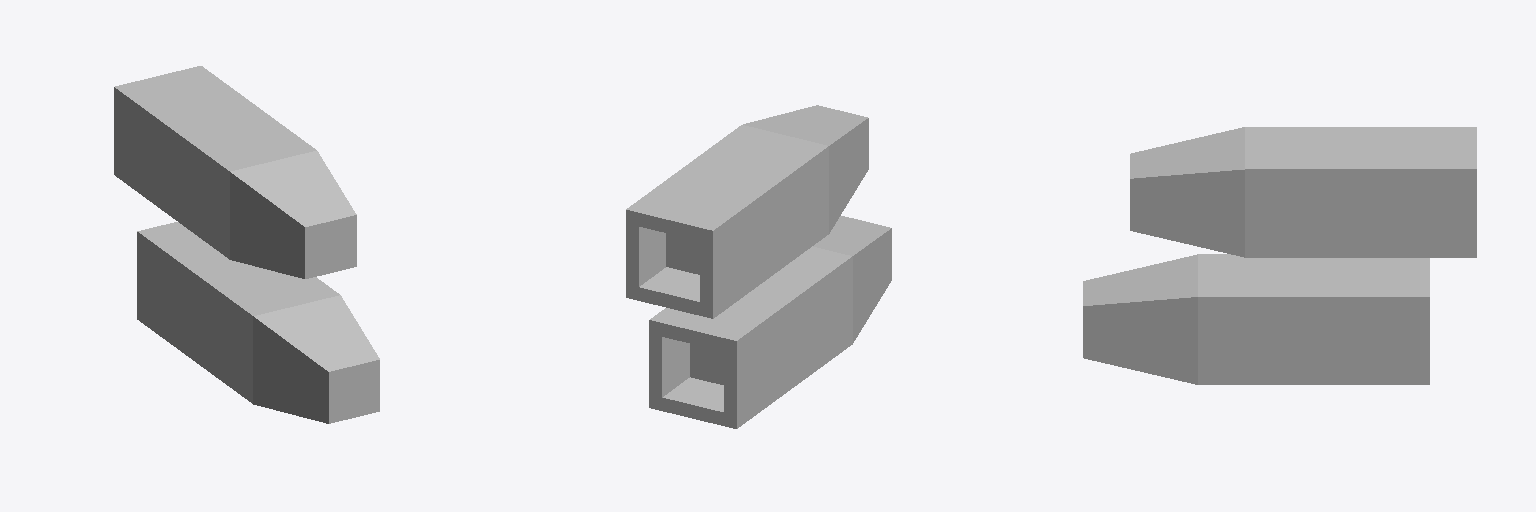
The model's file is Quad Cannons.obj.
The picture shows the model from 3 angles: view 1: azimuth 30°, elevation 25°; view 2: azimuth 150°, elevation 25°; view 3: azimuth 270°, elevation 25°; orthographic projection.
Parts seen in each view (by area): view 1: engine_plane_6, engine_plane_5; view 2: engine_plane_6, engine_plane_5; view 3: engine_plane_6, engine_plane_5.
Part boxes in pixels (left/top/right/bottom): engine_plane_6: left=114, top=66, right=356, bottom=278; engine_plane_5: left=137, top=222, right=379, bottom=423; engine_plane_6: left=626, top=105, right=868, bottom=318; engine_plane_5: left=649, top=216, right=891, bottom=428; engine_plane_6: left=1130, top=127, right=1476, bottom=257; engine_plane_5: left=1083, top=254, right=1429, bottom=384.
Size of the model in its own units: 0.215 by 0.5075 by 0.84.